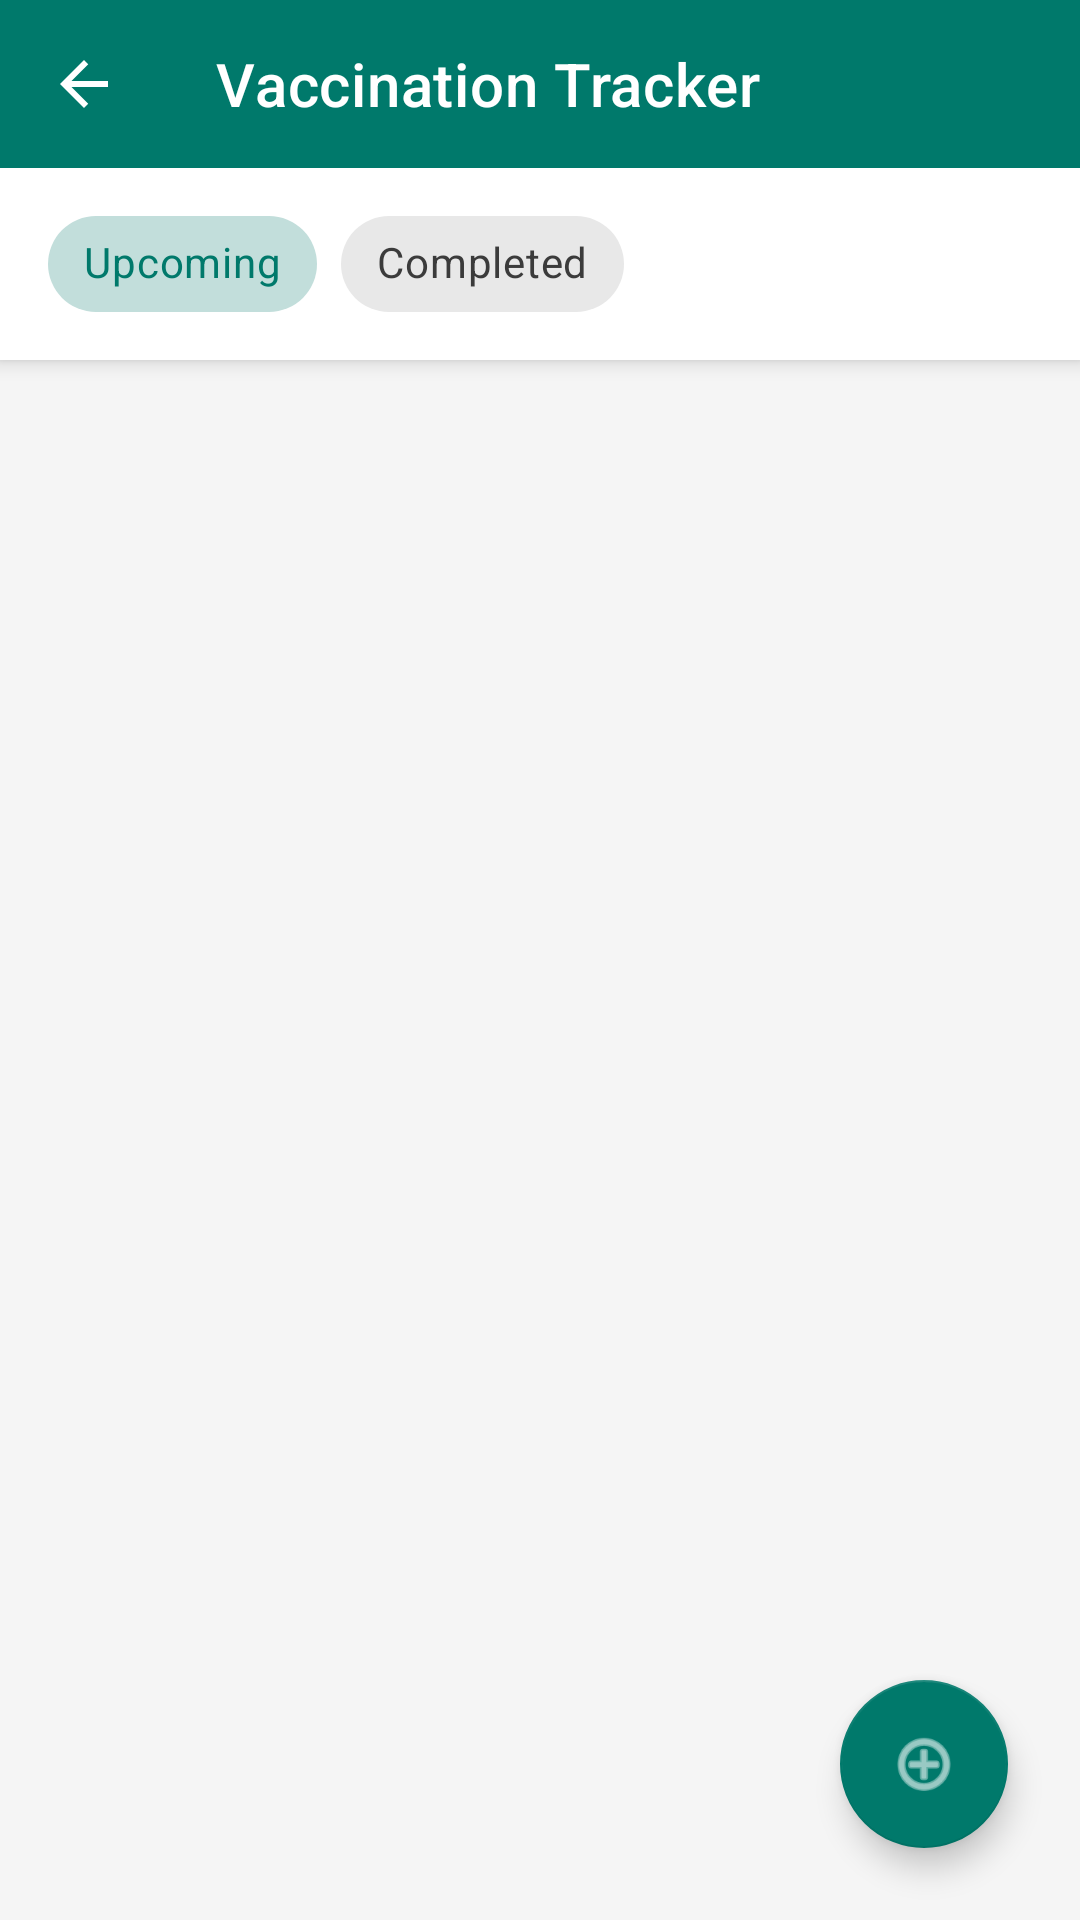

Named icons in this screenshot (1080*1920) and their centers, (x=x, y=y):
Add Fake Vaccine for Testing: (x=924, y=1764)
